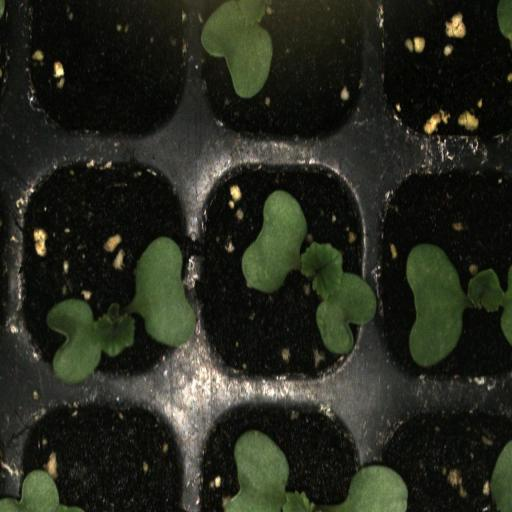noseedling: (17, 0, 194, 151)
seedling: (10, 146, 195, 392), (192, 152, 373, 390), (372, 150, 512, 386), (193, 388, 376, 512)
